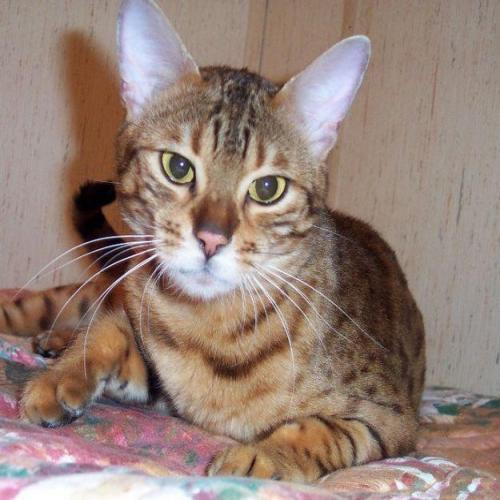bengal: (82, 1, 379, 316)
